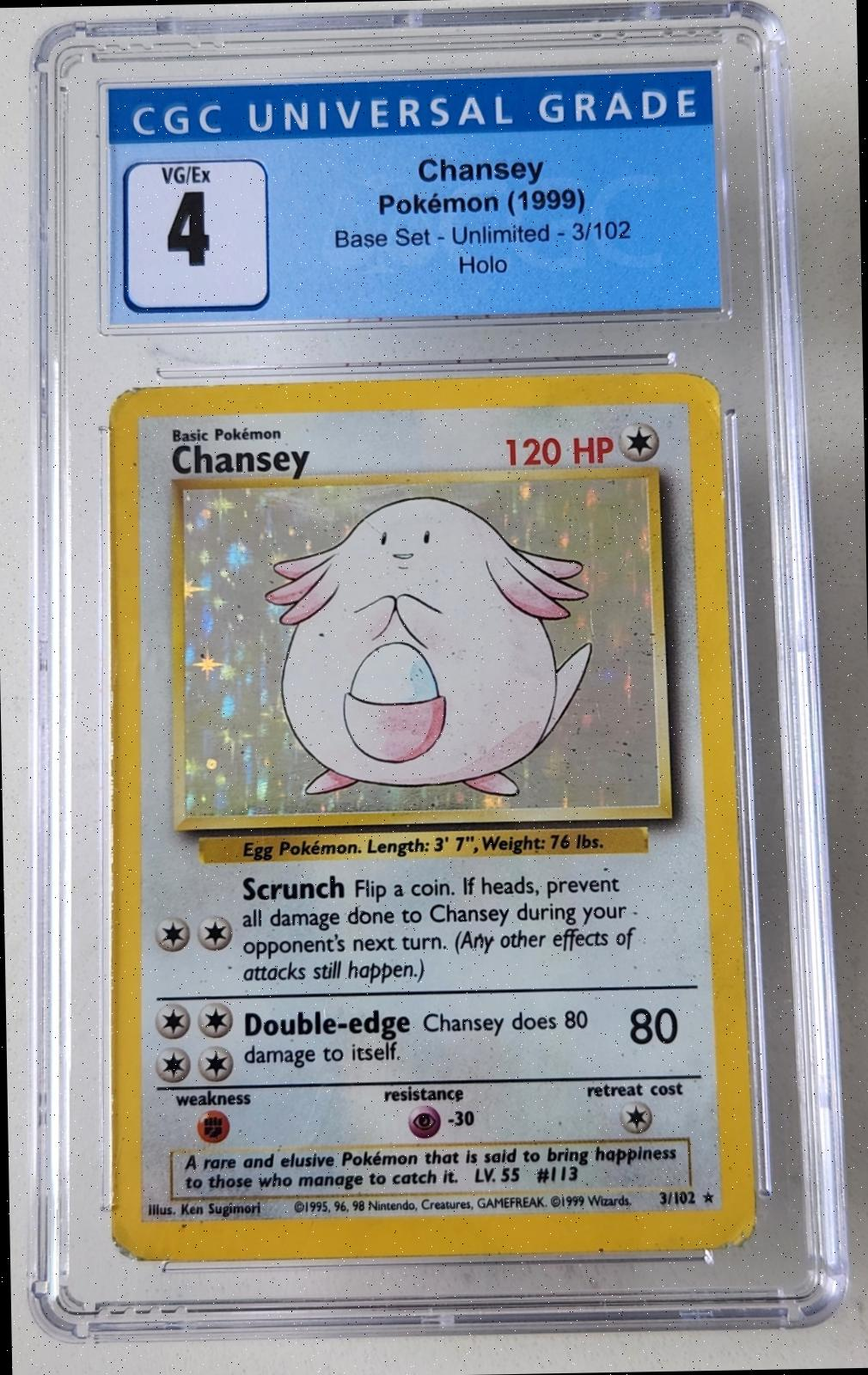card-2UtV: (108, 371, 757, 1262)
